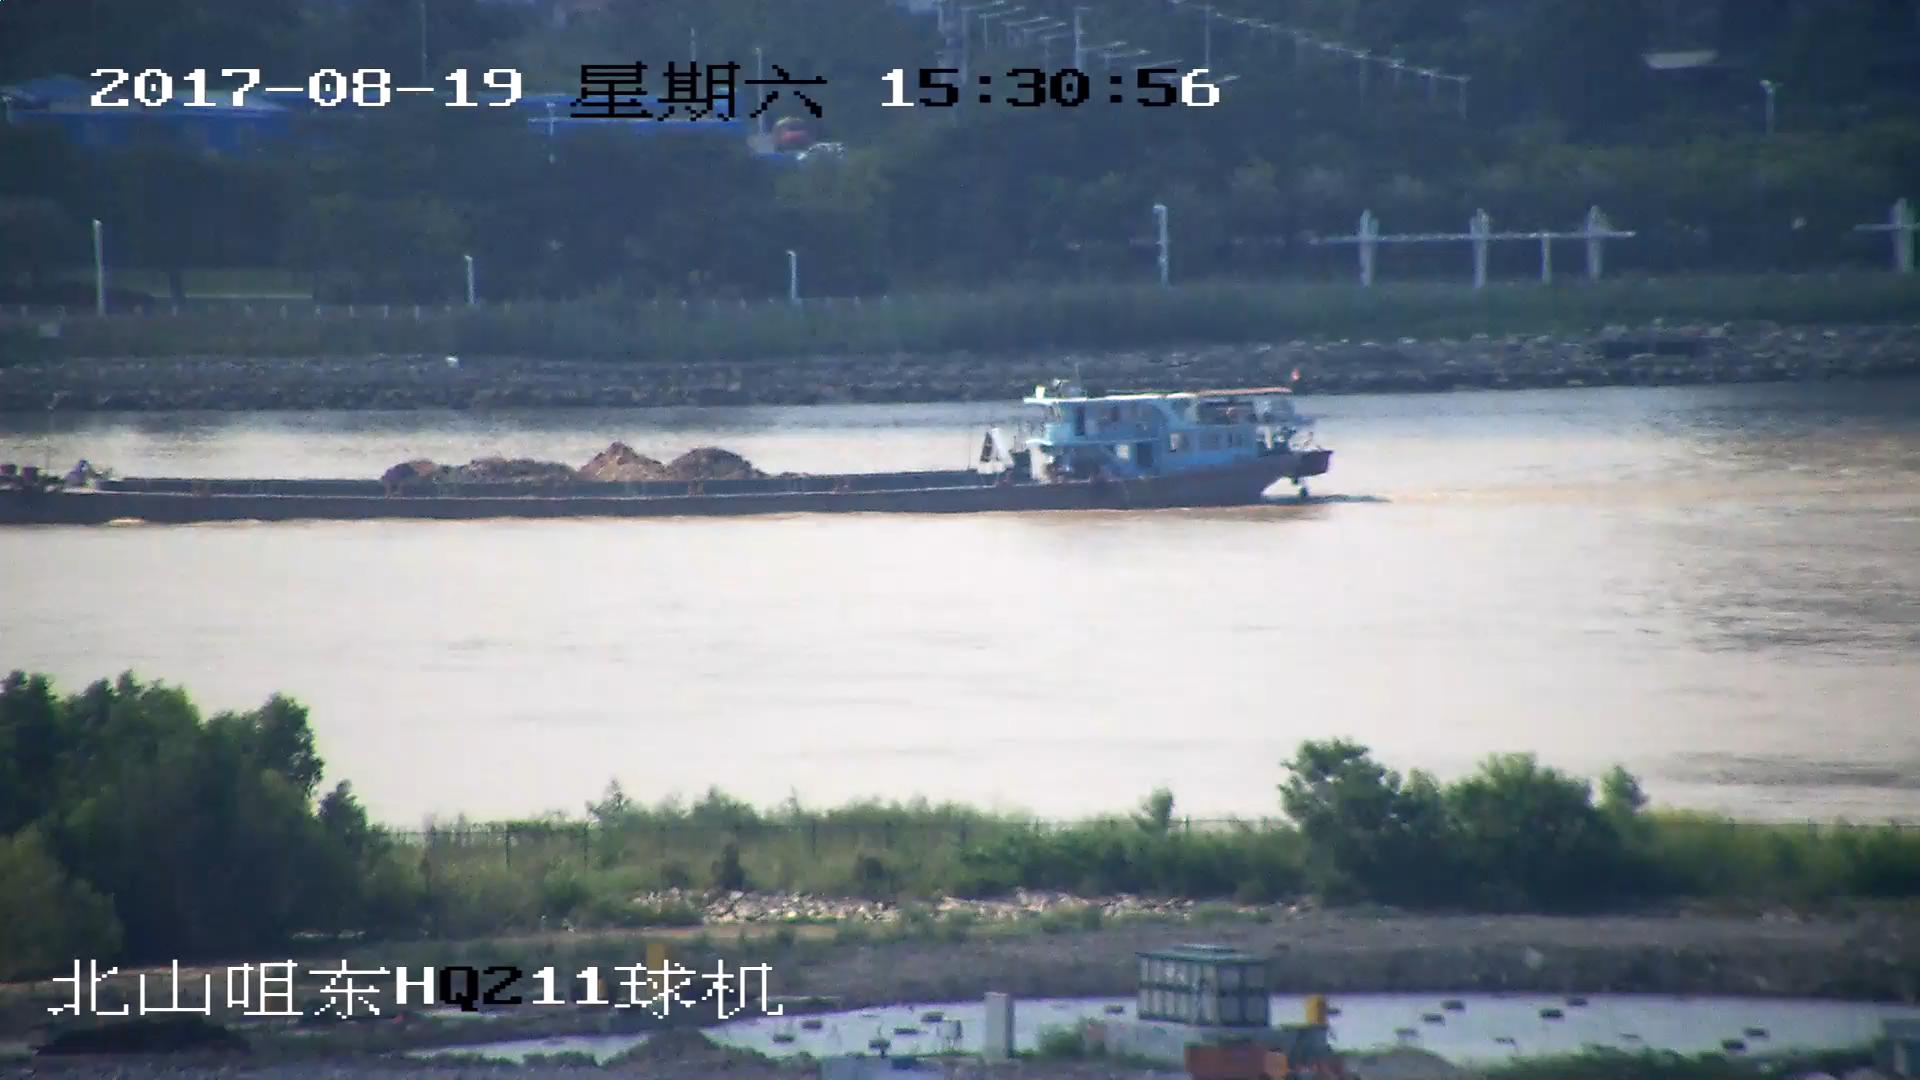ore carrier: (1, 374, 1336, 526)
